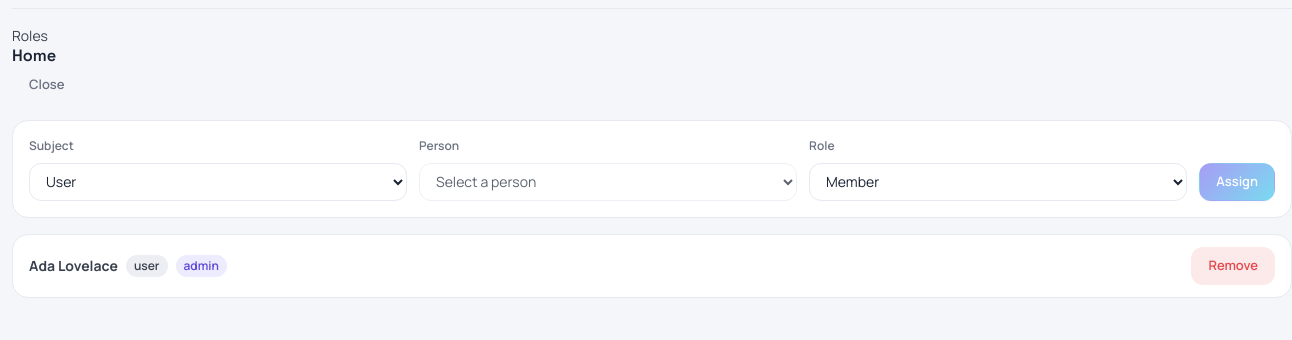
Scenario: removes an assignment
Click the button "Remove" at (1233, 266), box [1191,247,1275,285]
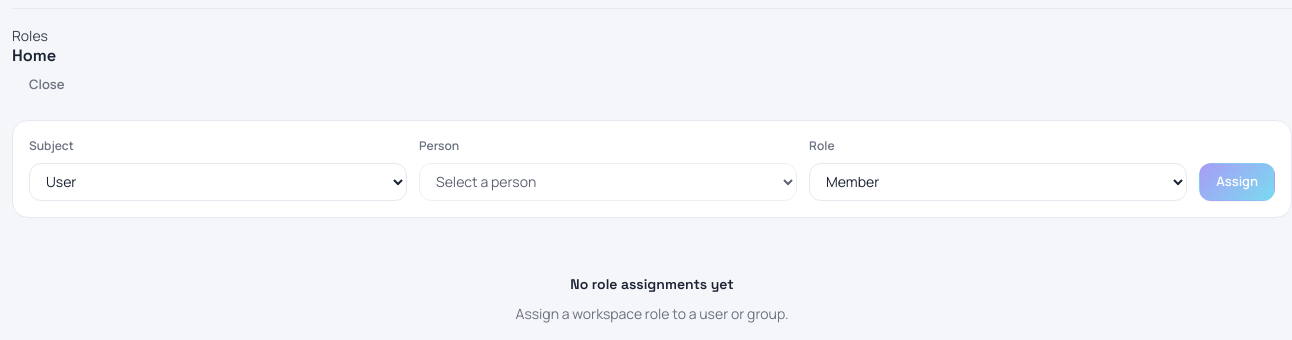
expect the text "Ada Lovelace" is gone: met
